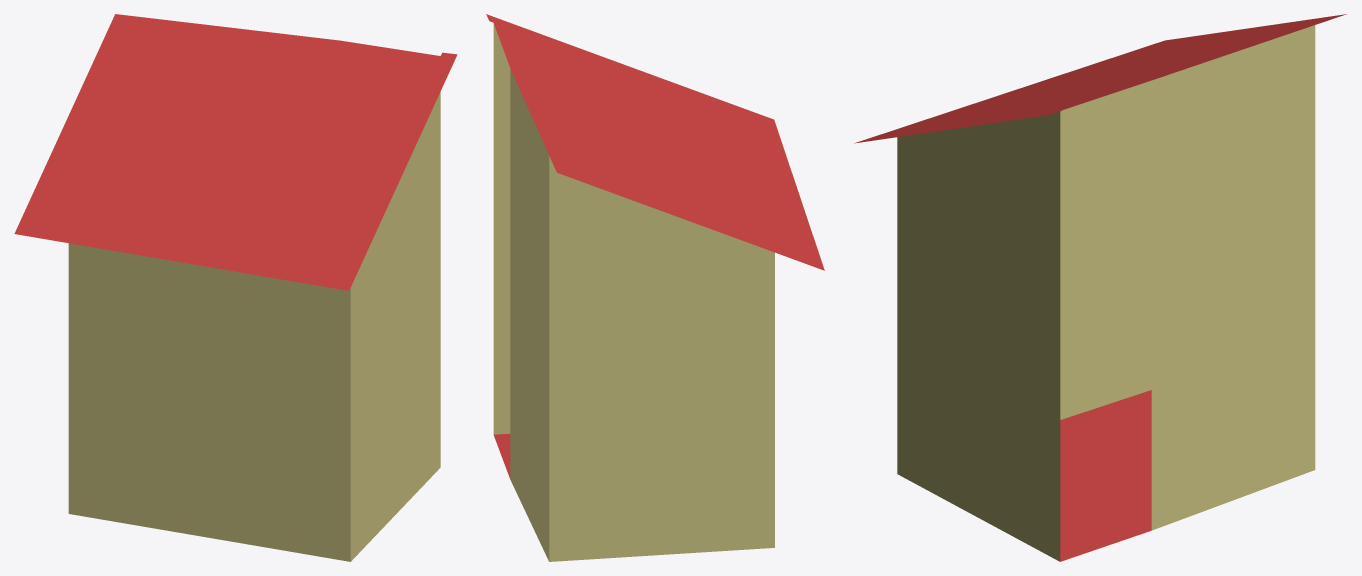
3 renders of one model, left to right at view 1: azimuth 30°, elevation 25°; view 2: azimuth 150°, elevation 25°; view 3: azimuth 270°, elevation 25°, orthographic. The views are drawn at different scales.
Size of the model in its own units: 6.96 by 6.96 by 7.04.
